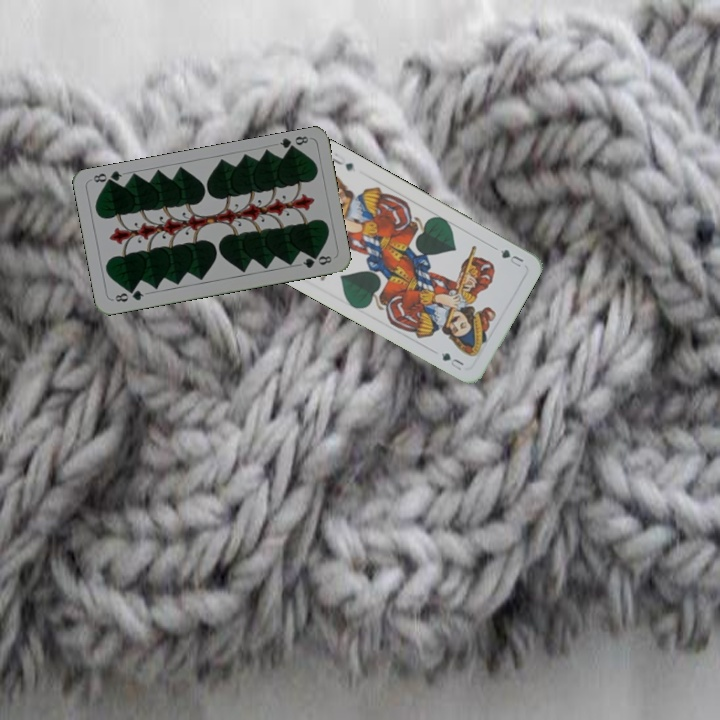G8: (276, 132, 311, 155), (111, 286, 146, 305)
GU: (495, 245, 526, 270)
